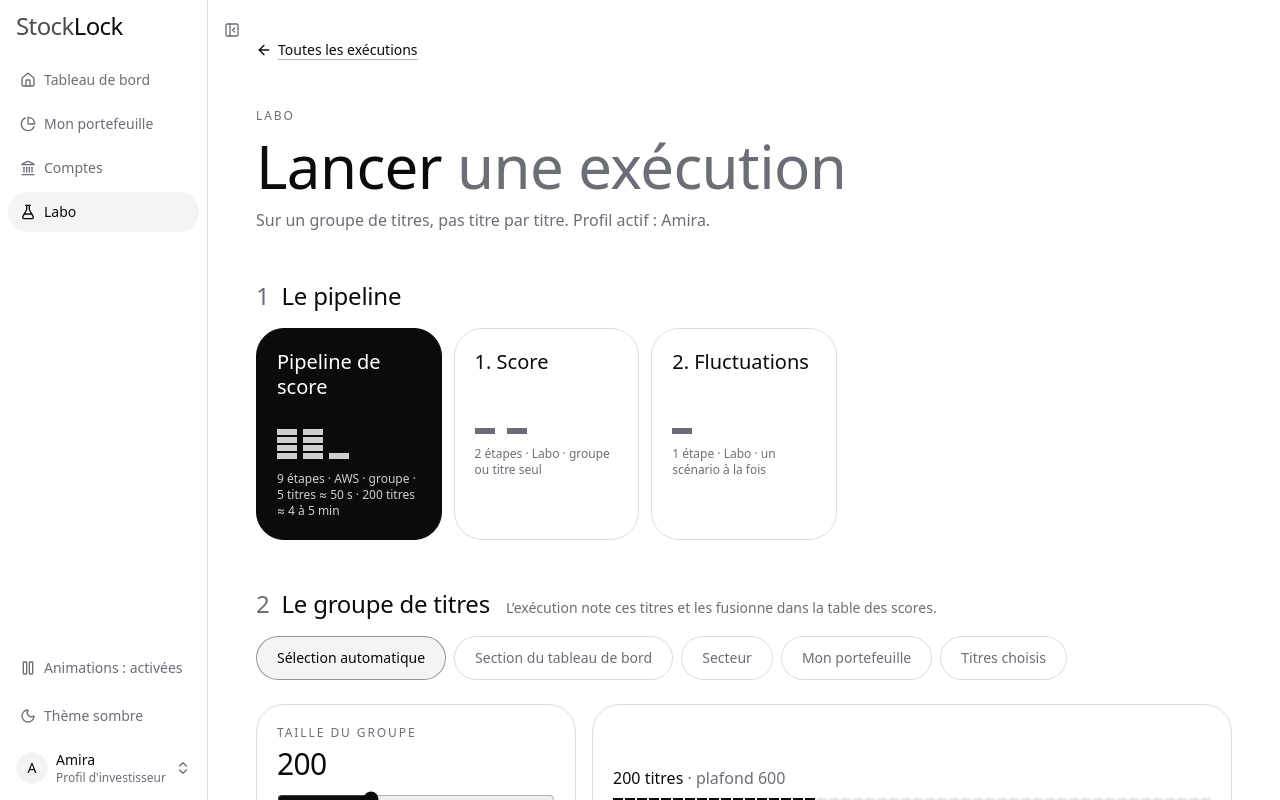
Test: LaunchPage › starts the score pipeline on a dashboard section and lands on the run
This screenshot has width=1280, height=800.
Later steps or results of the test are not shown.
Click the radio button labelled "Section du tableau de bord": [564, 658] box x1=454 y1=636 x2=673 y2=680
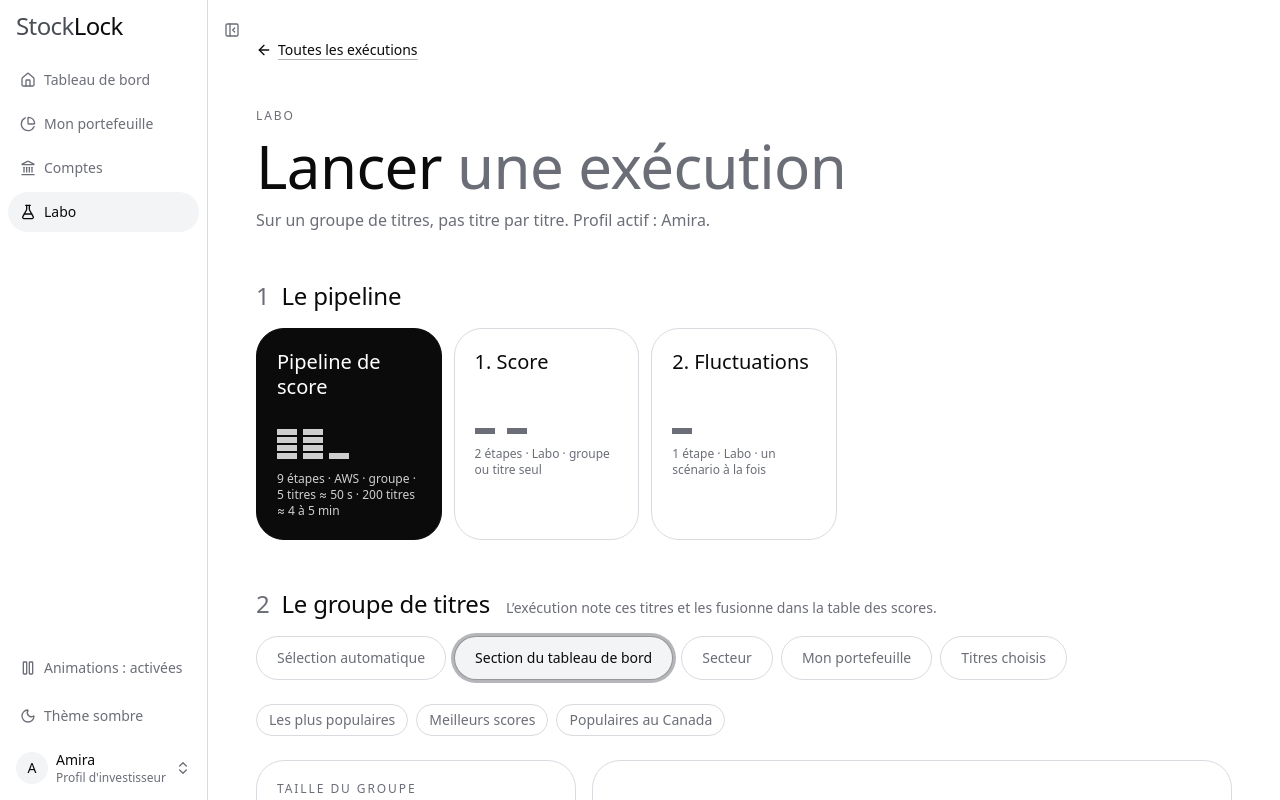
Click the radio button labelled "Populaires au Canada": [641, 720] box x1=556 y1=704 x2=725 y2=736
(page scrolled)
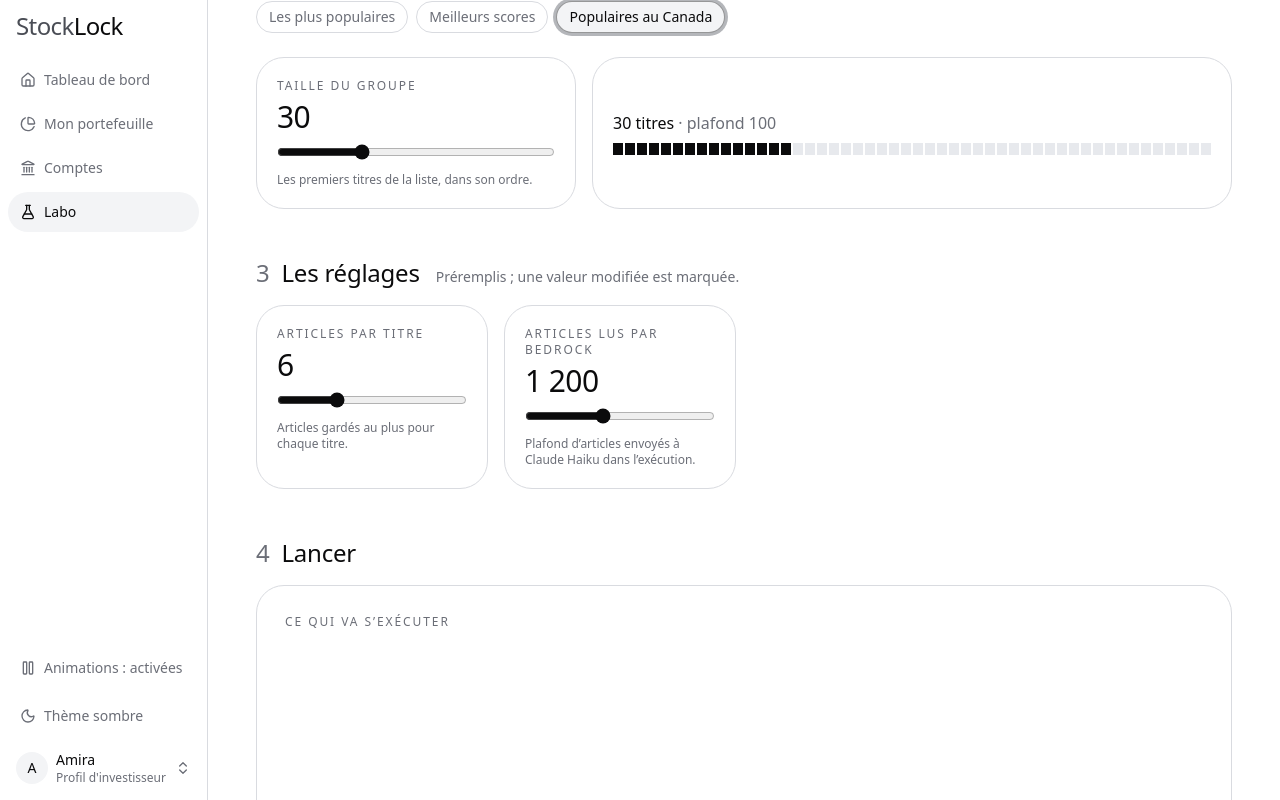
Check: the text "30 titres" is shown, box x1=613 y1=112 x2=674 y2=134
Check: the text "· plafond 100" is shown, box x1=674 y1=112 x2=776 y2=134
